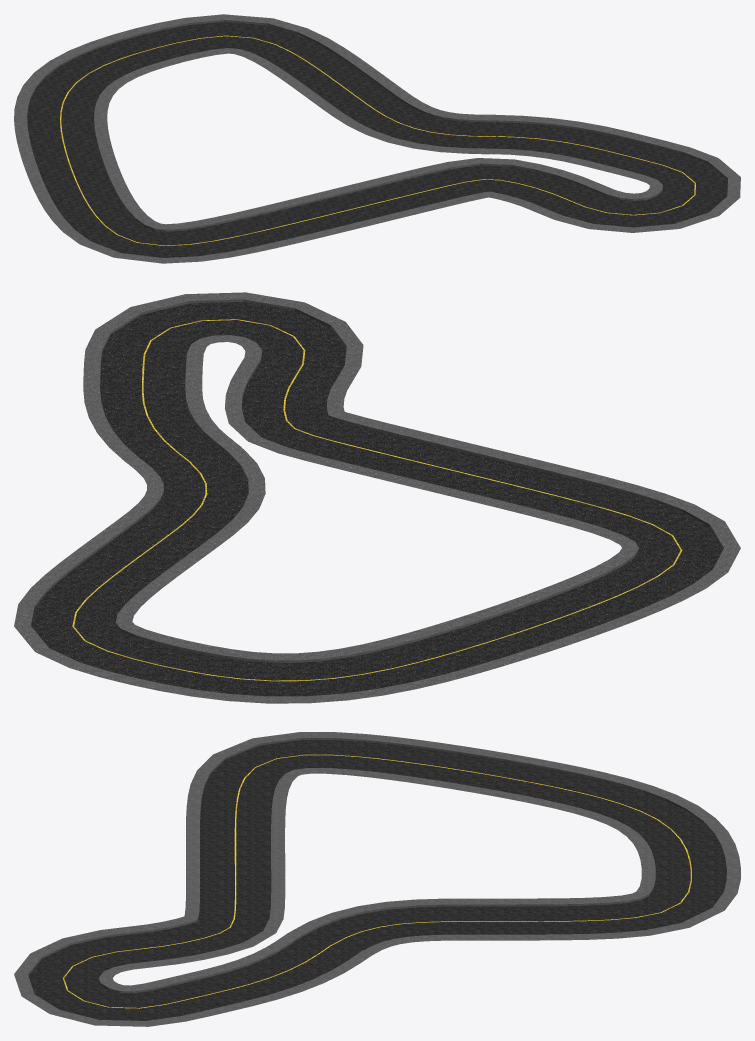
The model's file is show-off with car.glb.
The picture shows the model from 3 angles, top to bottom: view 1: azimuth 30°, elevation 25°; view 2: azimuth 150°, elevation 25°; view 3: azimuth 270°, elevation 25°; orthographic projection. The views are drawn at different scales.
Parts seen in each view (by area): view 1: Plane.015; view 2: Plane.015; view 3: Plane.015.
Part boxes in pixels (left/top/right/bottom): Plane.015: left=14, top=14, right=740, bottom=263; Plane.015: left=14, top=292, right=740, bottom=703; Plane.015: left=14, top=732, right=740, bottom=1026.
Size of the model in its own units: 58.85 by 0.1981 by 61.33.
3 materials, 3 textured.
